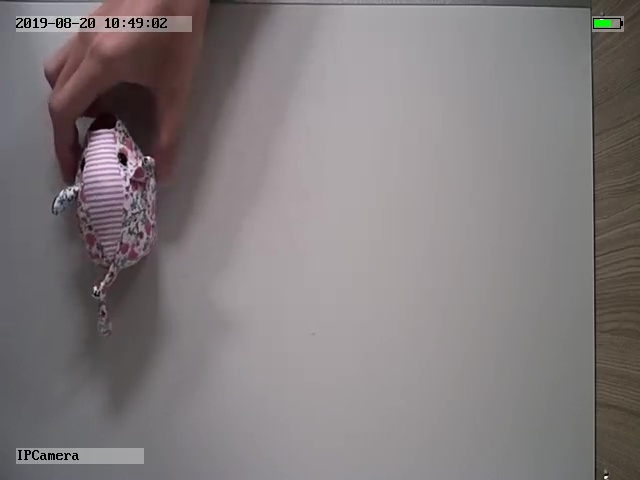pig: (52, 114, 159, 339)
